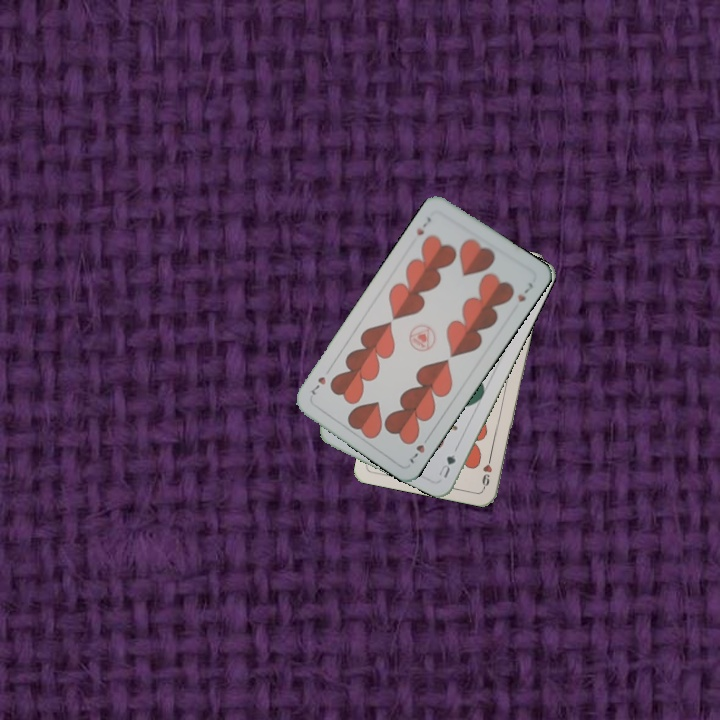GU: (434, 450, 458, 481)
H7: (405, 431, 433, 466), (412, 212, 434, 238)
H9: (478, 451, 495, 491)
